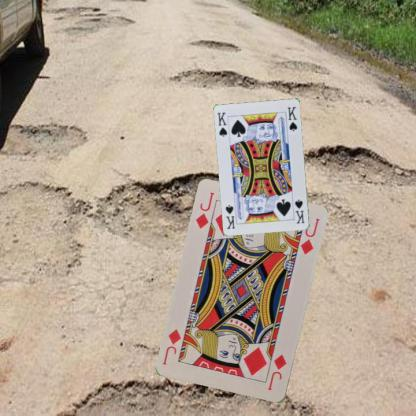Jd: (265, 352, 289, 392), (193, 190, 215, 231)
Ks: (292, 197, 306, 225), (215, 110, 228, 138)
